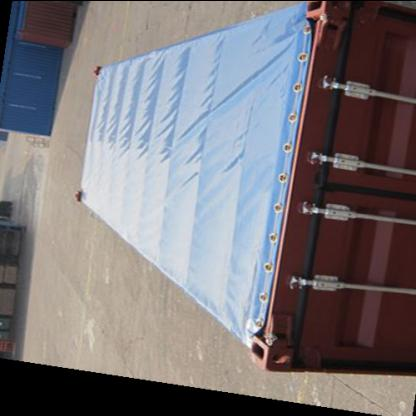Damage: (254, 296, 306, 376), (316, 2, 354, 51), (304, 165, 328, 195)
